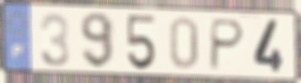0: (168, 15, 200, 73)
3: (39, 11, 71, 68)
4: (251, 17, 289, 77)
5: (125, 13, 156, 72)
9: (79, 10, 117, 71)
P: (207, 17, 247, 72)
